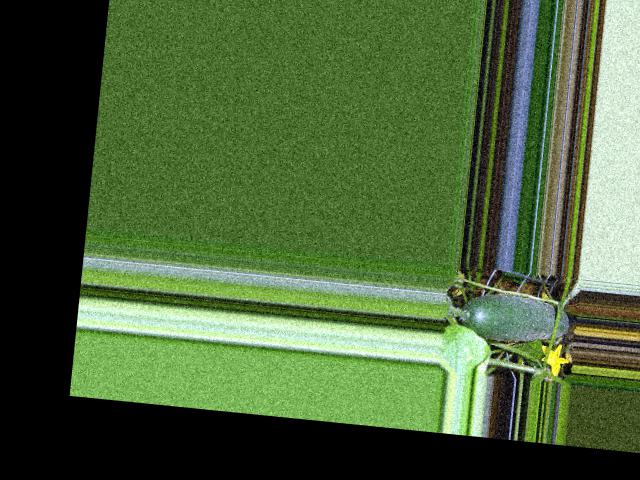cucumber: (457, 289, 570, 346)
